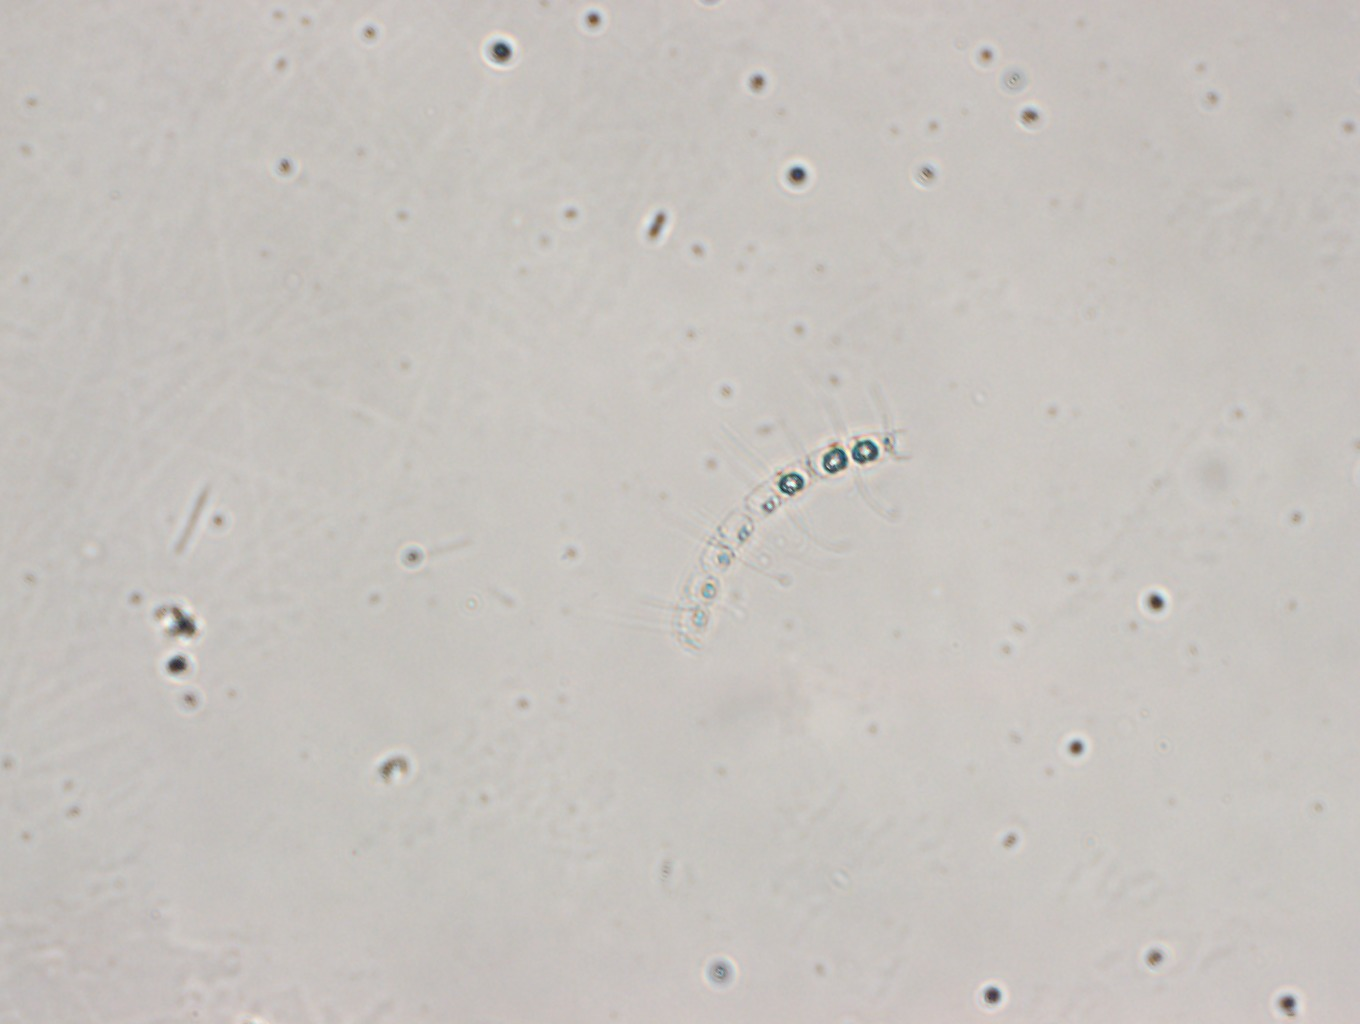chaetoceros: (624, 382, 912, 653)
